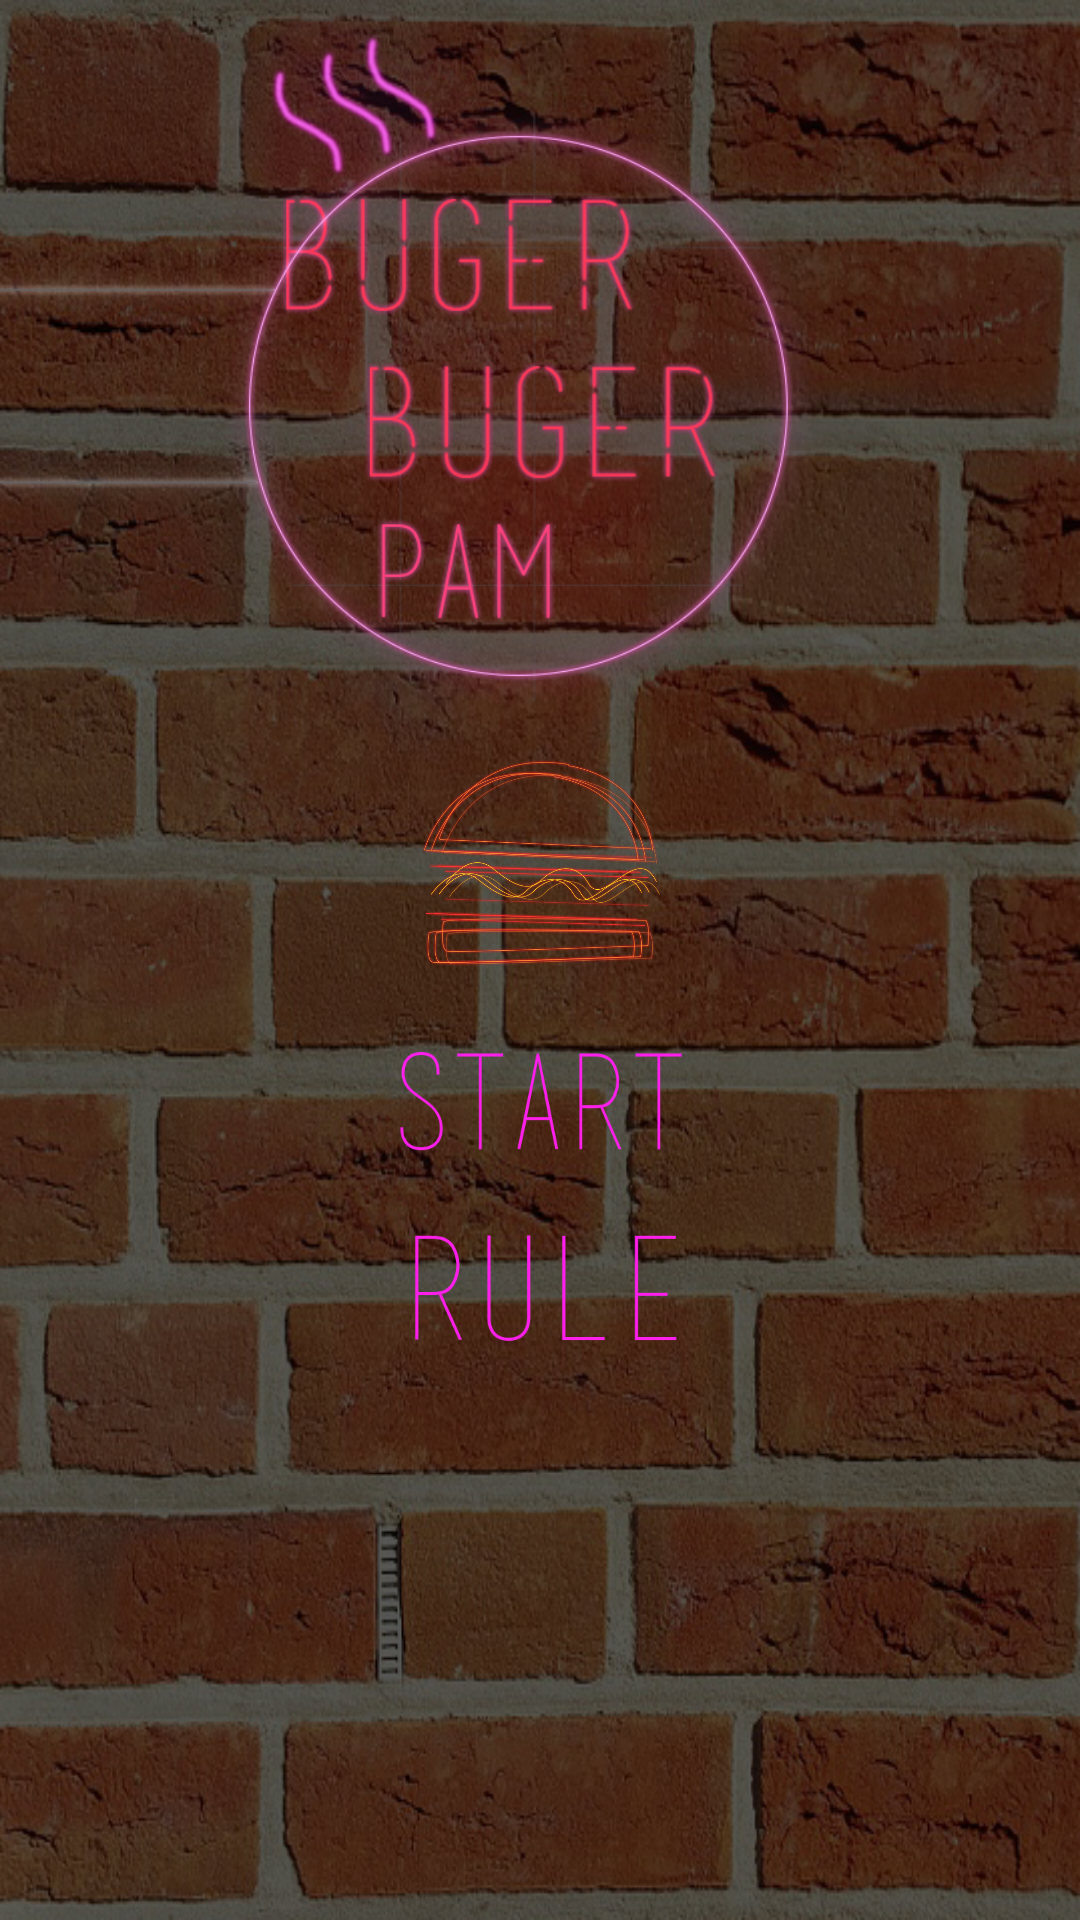

Icons on this 1080 x 1920 Android screen, each with its box as [x1,y1,x2,y2]:
burger fneon: [420,752,660,992]
